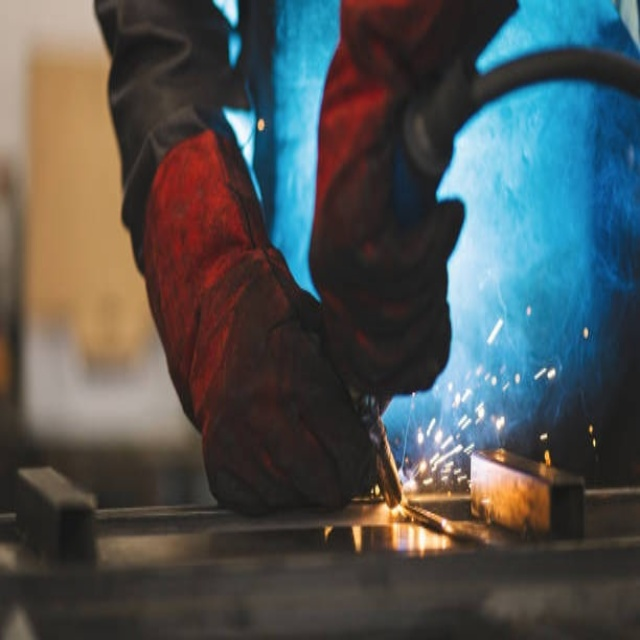Guantes: (123, 121, 370, 515), (314, 4, 462, 415)
